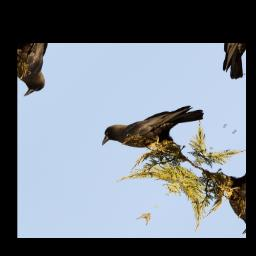Crow: (92, 78, 211, 178)
